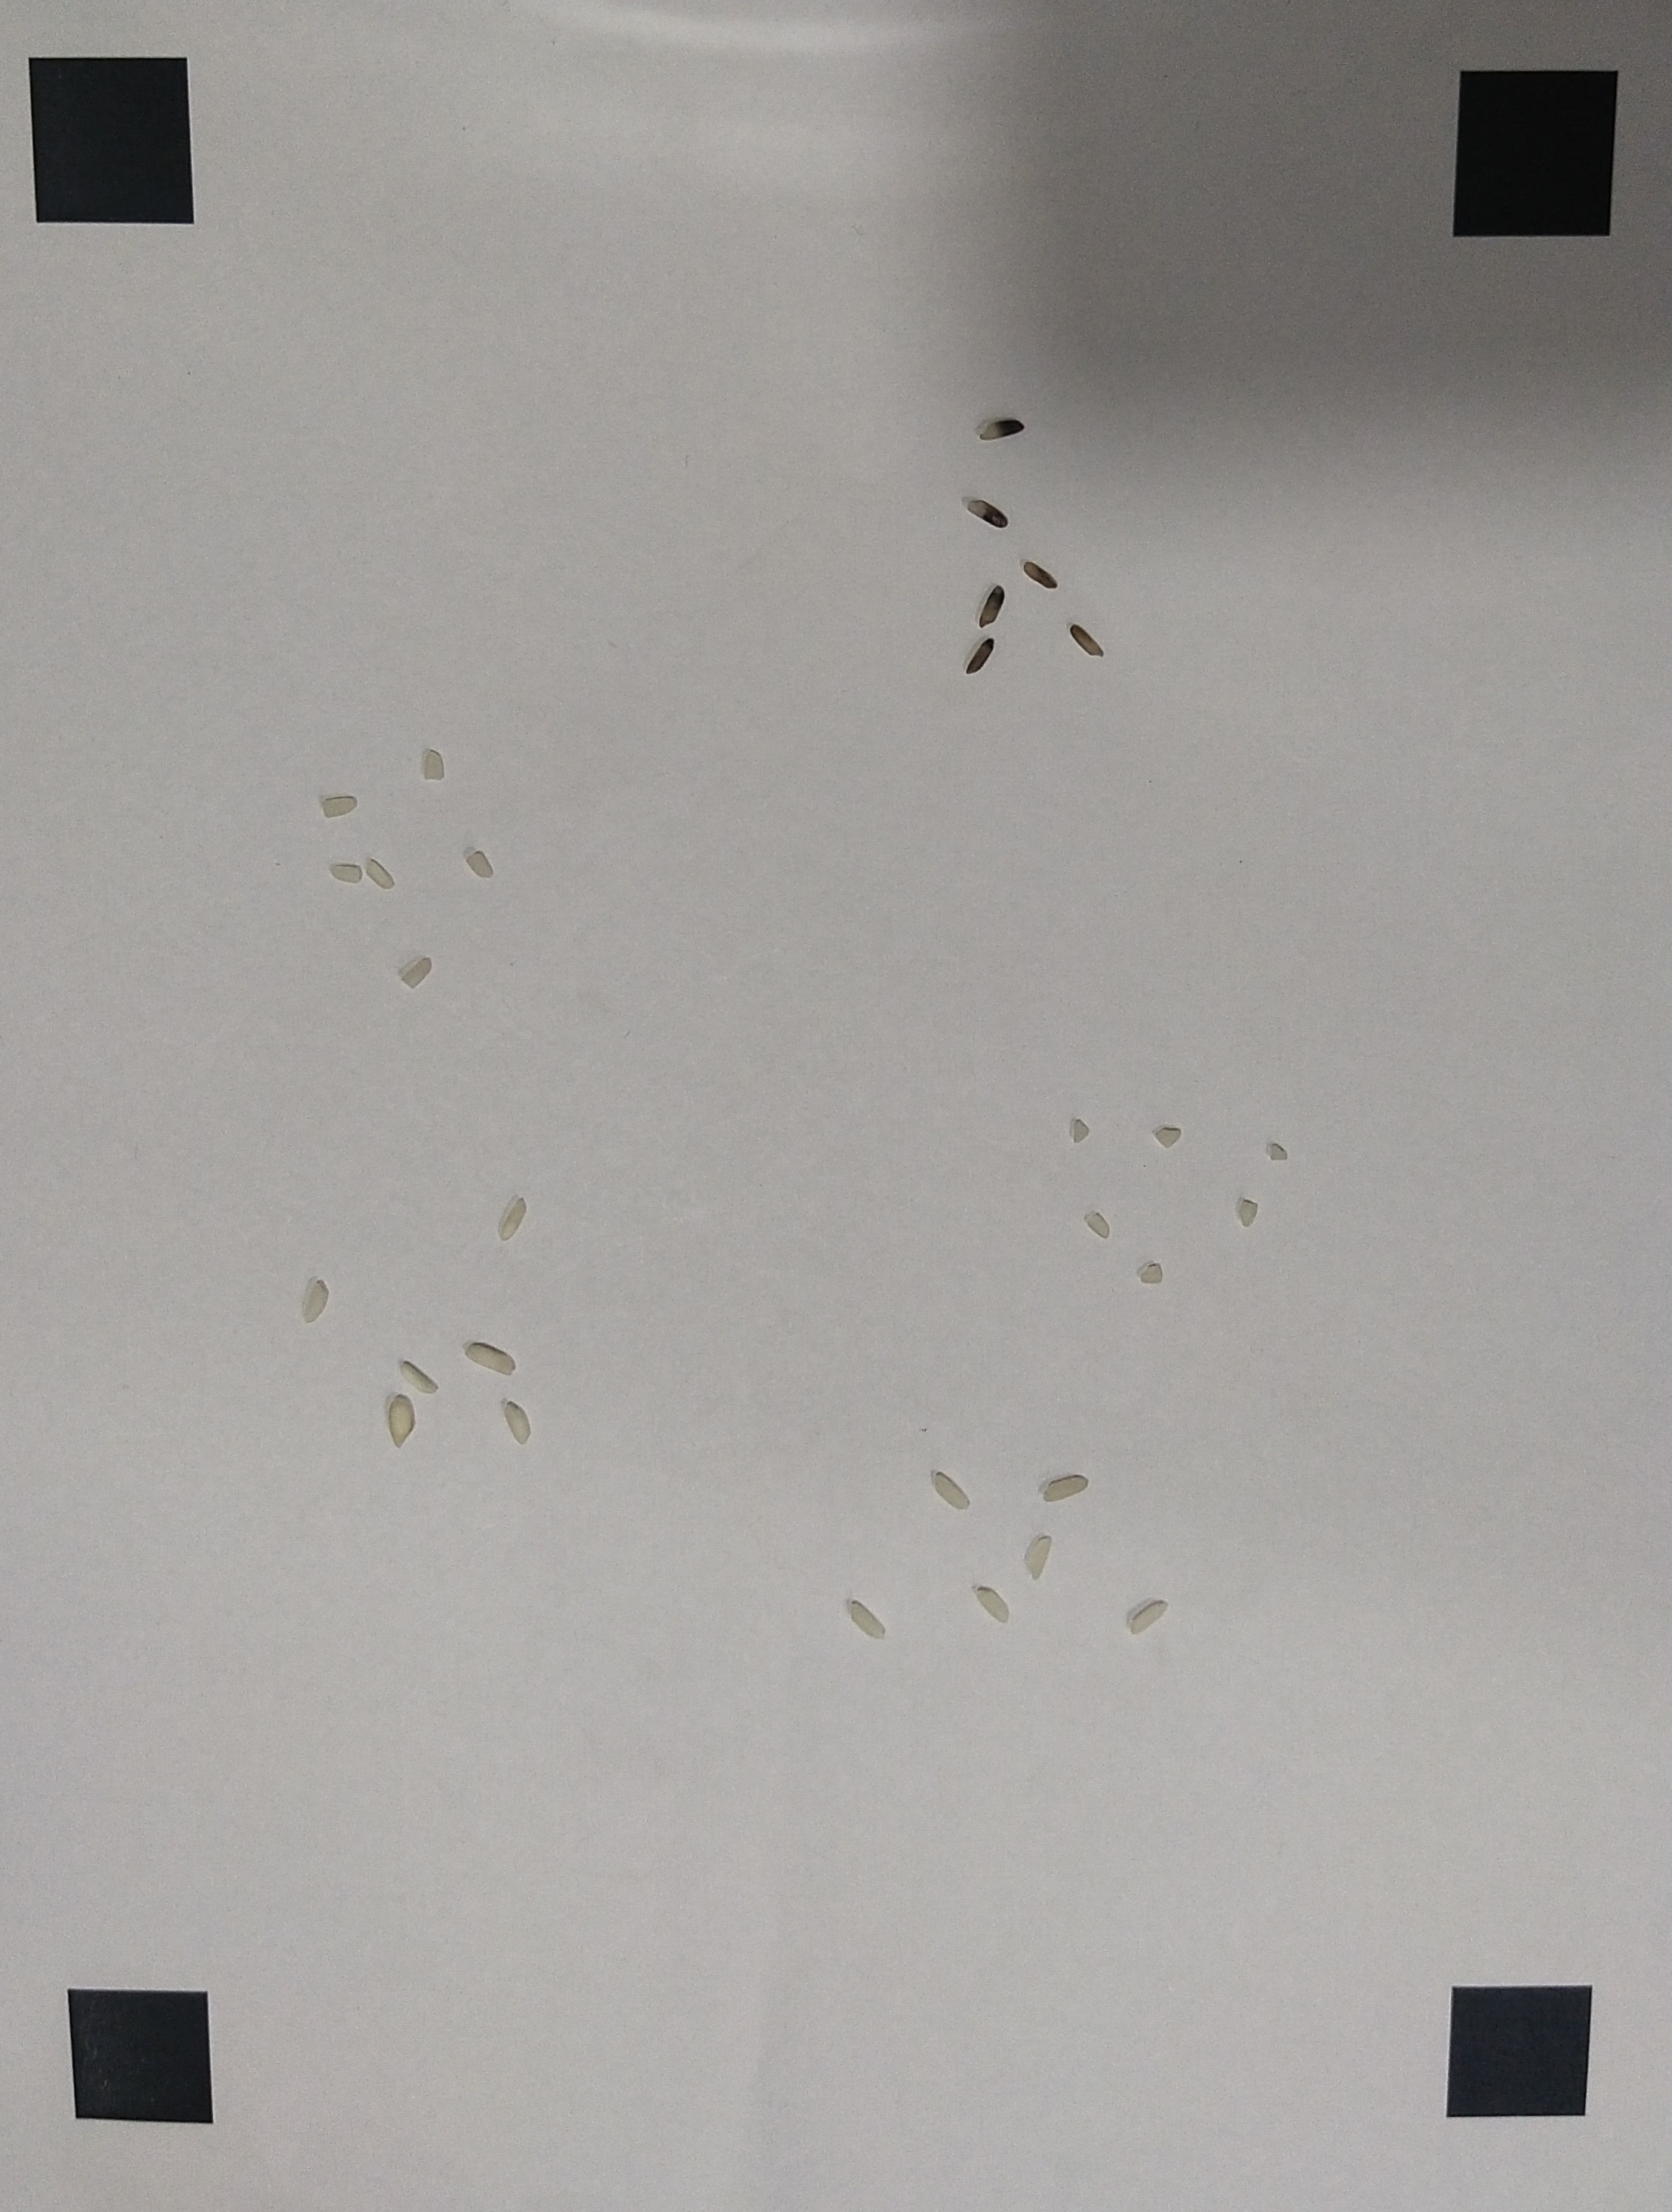broken: (1085, 1210, 1110, 1238), (1238, 1196, 1259, 1227), (1066, 1115, 1087, 1145), (1154, 1127, 1184, 1146), (1140, 1260, 1164, 1283), (1270, 1143, 1287, 1162)
chalky: (465, 1338, 516, 1375), (386, 1392, 416, 1450), (399, 1359, 441, 1396), (499, 1194, 530, 1243), (300, 1278, 328, 1324), (504, 1401, 530, 1445)
damage: (367, 855, 395, 890), (402, 957, 432, 988), (465, 848, 494, 880), (323, 795, 360, 816), (423, 746, 444, 781), (330, 864, 362, 883)
discolor: (964, 497, 1010, 528), (1070, 623, 1106, 658), (964, 637, 996, 676), (978, 586, 1005, 630), (980, 416, 1026, 441), (1022, 558, 1057, 590)
good: (1128, 1598, 1171, 1638), (847, 1598, 887, 1640), (931, 1471, 973, 1510), (975, 1580, 1010, 1626), (1020, 1536, 1056, 1578), (1041, 1473, 1089, 1501)
